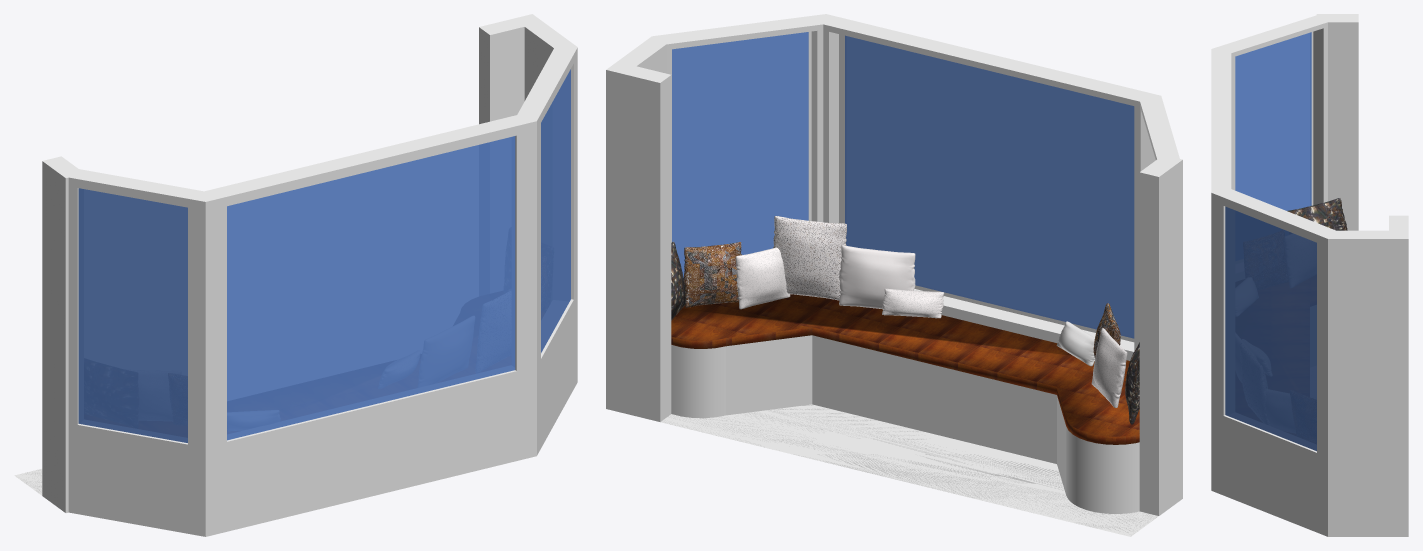
3 views of the same model, side by side, from view 1: azimuth 30°, elevation 25°; view 2: azimuth 150°, elevation 25°; view 3: azimuth 270°, elevation 25° (orthographic). The views are drawn at different scales.
Parts seen in each view (by area): view 1: mesh16_mesh16-geometry, mesh1_mesh1-geometry, mesh2_mesh2-geometry, mesh3_mesh3-geometry; view 2: mesh16_mesh16-geometry, mesh1_mesh1-geometry, mesh4_mesh4-geometry, mesh3_mesh3-geometry, mesh6_mesh6-geometry, mesh8_mesh8-geometry, mesh11_mesh11-geometry, mesh7_mesh7-geometry, mesh13_mesh13-geometry, mesh12_mesh12-geometry, mesh15_mesh15-geometry, mesh14_mesh14-geometry (+1 smaller); view 3: mesh16_mesh16-geometry, mesh3_mesh3-geometry, mesh2_mesh2-geometry, mesh15_mesh15-geometry.
Boxes of the visible parts, x1,y1,x2,y2 form: mesh16_mesh16-geometry: (14,14,577,536); mesh1_mesh1-geometry: (221,130,522,446); mesh2_mesh2-geometry: (75,184,190,448); mesh3_mesh3-geometry: (540,59,574,363); mesh16_mesh16-geometry: (606,14,1182,536); mesh1_mesh1-geometry: (839,34,1134,342); mesh4_mesh4-geometry: (671,335,1139,513); mesh3_mesh3-geometry: (672,31,811,277); mesh6_mesh6-geometry: (671,294,1139,444); mesh8_mesh8-geometry: (773,216,846,300); mesh11_mesh11-geometry: (839,245,915,309); mesh7_mesh7-geometry: (684,242,741,307); mesh13_mesh13-geometry: (735,247,790,309); mesh12_mesh12-geometry: (1091,328,1127,407); mesh15_mesh15-geometry: (671,241,1139,424); mesh14_mesh14-geometry: (882,288,944,318); mesh16_mesh16-geometry: (1211,14,1408,536); mesh3_mesh3-geometry: (1221,202,1318,456); mesh2_mesh2-geometry: (1235,32,1313,210); mesh15_mesh15-geometry: (1287,198,1347,230).
Bounding box in the file's own units: 0.8114 × 0.5012 × 0.3007.
